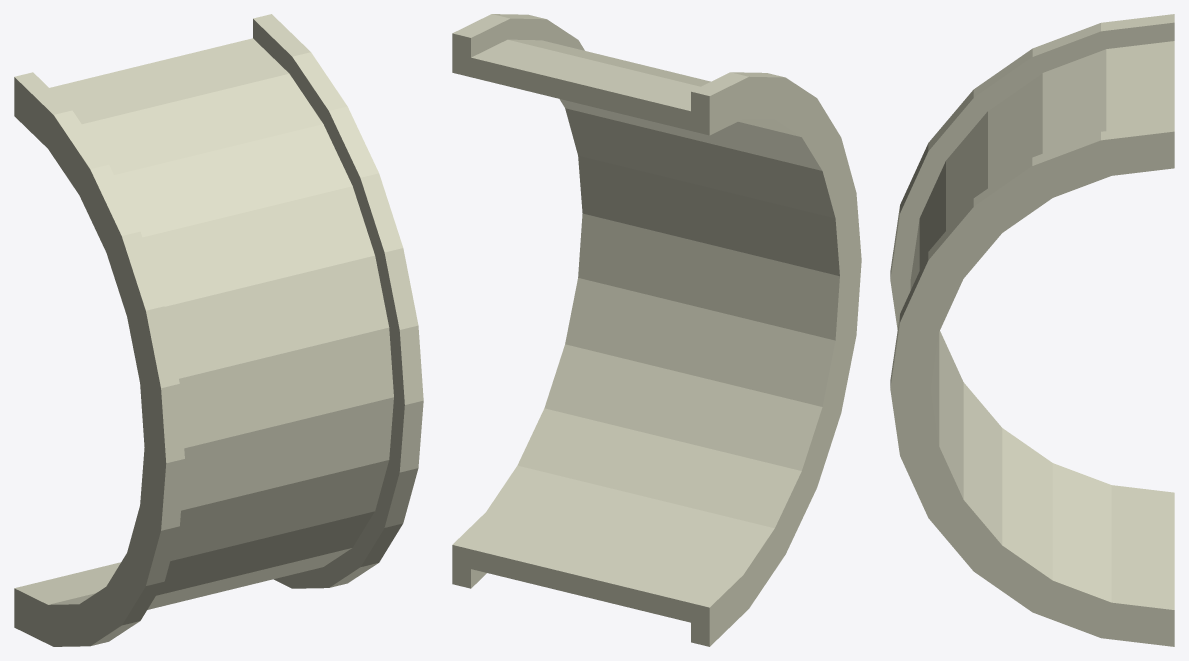
The model's file is section_036.obj.
The picture shows the model from 3 angles, left to right: view 1: azimuth 30°, elevation 25°; view 2: azimuth 150°, elevation 25°; view 3: azimuth 270°, elevation 25°; orthographic projection. The views are drawn at different scales.
Size of the model in its own units: 13.7 by 28 by 14.
